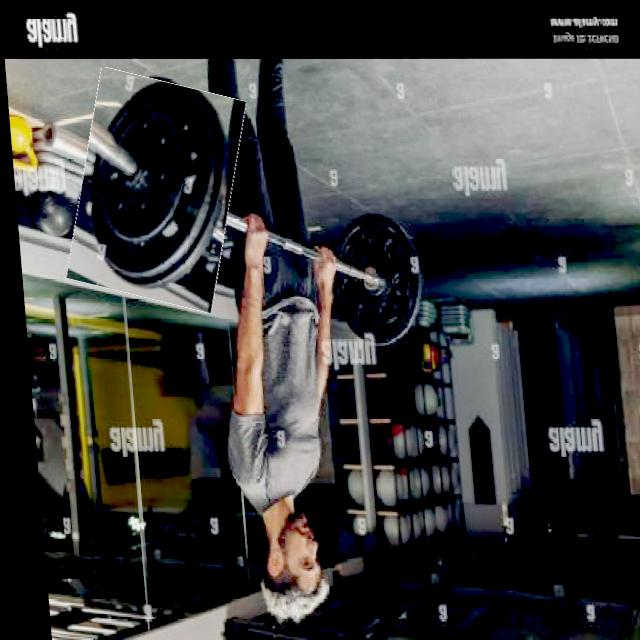barbell: (62, 75, 247, 307)
